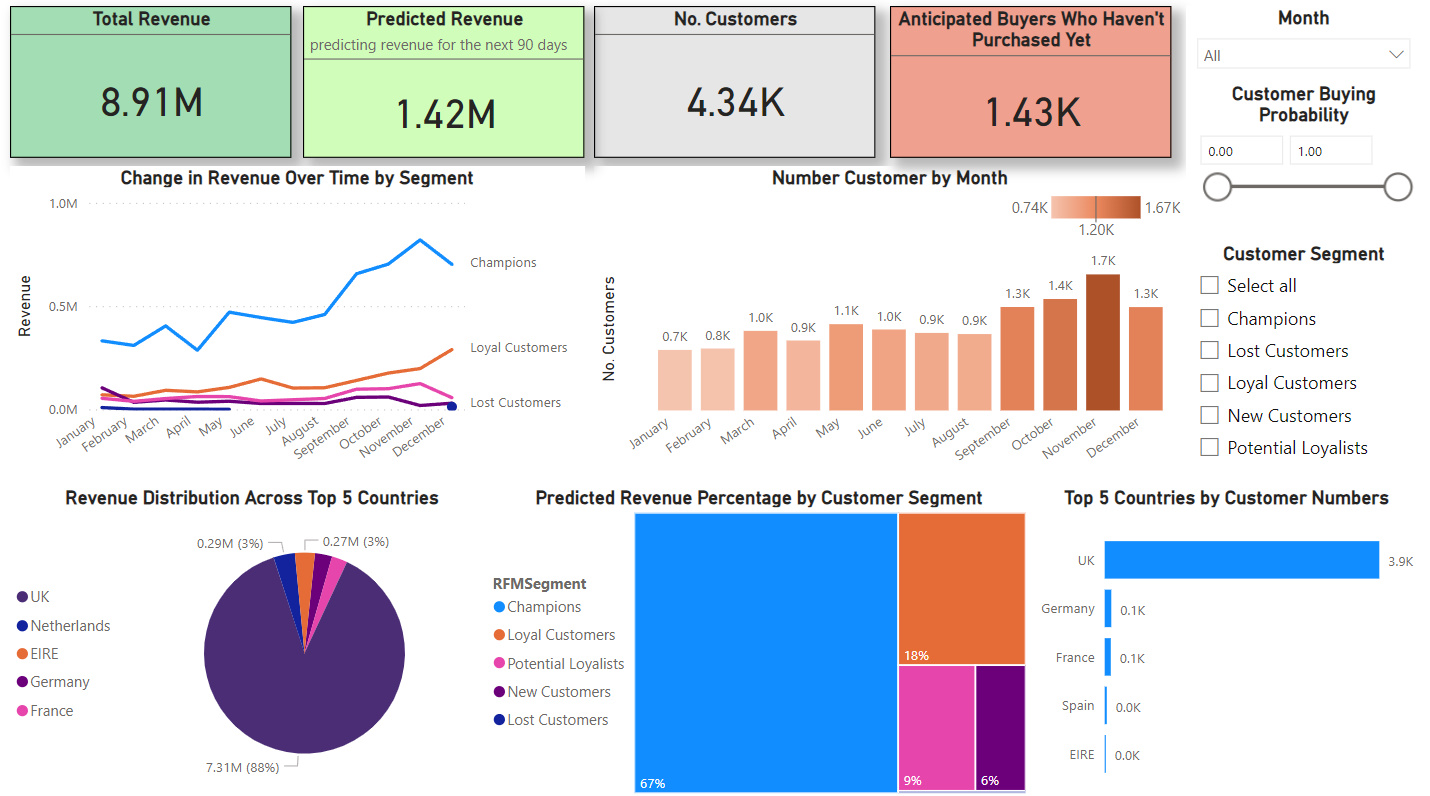

The dashboard page shown, as its layout file describes it:
{"tool":"powerbi","page":{"name":"Page 1","canvas":[1280,720],"ordinal":0},"visuals":[{"type":"card","title":"Total Revenue","fields":{"Values":["Sum(transaction_data.Value)"]},"box":[8.8,9.7,251.9,136.2],"z":0},{"type":"card","title":"No. Customers","fields":{"Values":["CountNonNull(rfm_data.CustomerID)"]},"box":[531.9,9.9,251.6,136.1],"z":1000},{"type":"clusteredColumnChart","title":"Number Customer by Month","fields":{"Category":["transaction_data.InvoiceDate.Variation.Date Hierarchy.Month"],"Y":["Count(transaction_data.CustomerID)"]},"box":[532,152.7,530.1,286.9],"z":2000},{"type":"card","title":"Predicted Revenue","fields":{"Values":["Sum(clv_data.SpendPred)"]},"box":[271.4,9.7,251.9,136.2],"z":3000},{"type":"card","title":"Anticipated Buyers Who Haven''t Purchased Yet","fields":{"Values":["CountNonNull(clv_data.BuyPredClass)"]},"box":[797,9.9,251.6,136.1],"z":4000},{"type":"treemap","title":"Predicted Revenue Percentage by Customer Segment","fields":{"Group":["rfm_data.RFMSegment"],"Values":["Sum(transaction_data.Value)"]},"box":[435.7,439.6,487.3,280.1],"z":5000},{"type":"lineChart","title":"Change in Revenue Over Time by Segment","fields":{"Category":["transaction_data.InvoiceDate.Variation.Date Hierarchy.Month"],"Y":["Sum(transaction_data.Value)"],"Series":["rfm_data.RFMSegment"]},"box":[8.8,152.7,514.5,286],"z":6000},{"type":"clusteredBarChart","title":"Top 5 Countries by Customer Numbers","fields":{"Category":["transaction_data.Country"],"Y":["Count(transaction_data.CustomerID)"]},"box":[923.3,439.7,350.1,280.3],"z":7000},{"type":"pieChart","title":"Revenue Distribution Across Top 5 Countries","fields":{"Category":["transaction_data.Country"],"Y":["Sum(transaction_data.Value)"]},"box":[9,439.7,433.4,280.3],"z":8000},{"type":"slicer","title":"Customer Segment","fields":{"Values":["rfm_data.RFMSegment"]},"box":[1062.1,221.2,211.3,217.6],"z":9000},{"type":"slicer","title":"Month","fields":{"Values":["transaction_data.InvoiceDate.Variation.Date Hierarchy.Month"]},"box":[1062.1,9.7,211.1,72],"z":10000},{"type":"slicer","title":"Customer Buying Probability","fields":{"Values":["clv_data.BuyProb"]},"box":[1062.1,77.9,211.3,143.3],"z":11000}]}

Visuals, with their boxes in screenshot pixels (x1, y1, x2, y2), scaled from the page's 1280x720 canvas onto the 1430x796 screenshot:
"Total Revenue" card: <bbox>10, 11, 291, 161</bbox>
"No. Customers" card: <bbox>594, 11, 875, 161</bbox>
"Number Customer by Month" clusteredColumnChart: <bbox>594, 169, 1187, 486</bbox>
"Predicted Revenue" card: <bbox>303, 11, 585, 161</bbox>
"Anticipated Buyers Who Haven''t Purchased Yet" card: <bbox>890, 11, 1171, 161</bbox>
"Predicted Revenue Percentage by Customer Segment" treemap: <bbox>487, 486, 1031, 795</bbox>
"Change in Revenue Over Time by Segment" lineChart: <bbox>10, 169, 585, 485</bbox>
"Top 5 Countries by Customer Numbers" clusteredBarChart: <bbox>1031, 486, 1423, 795</bbox>
"Revenue Distribution Across Top 5 Countries" pieChart: <bbox>10, 486, 494, 795</bbox>
"Customer Segment" slicer: <bbox>1187, 245, 1423, 485</bbox>
"Month" slicer: <bbox>1187, 11, 1422, 90</bbox>
"Customer Buying Probability" slicer: <bbox>1187, 86, 1423, 245</bbox>
